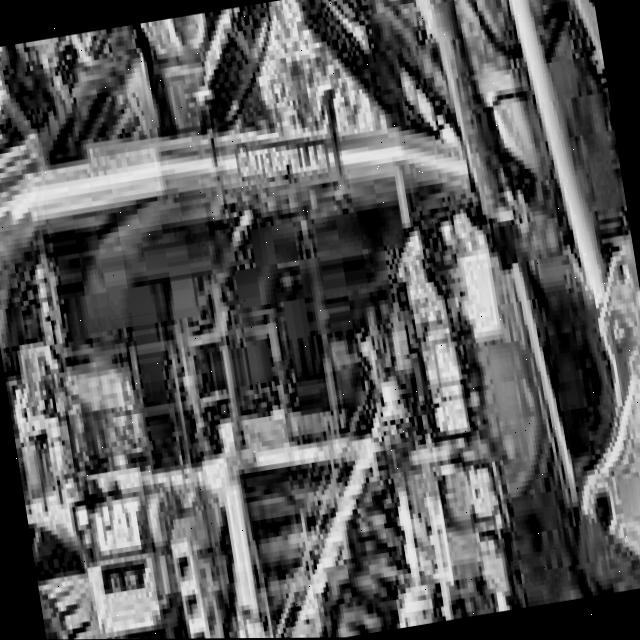dump_truck: (0, 50, 539, 640)
